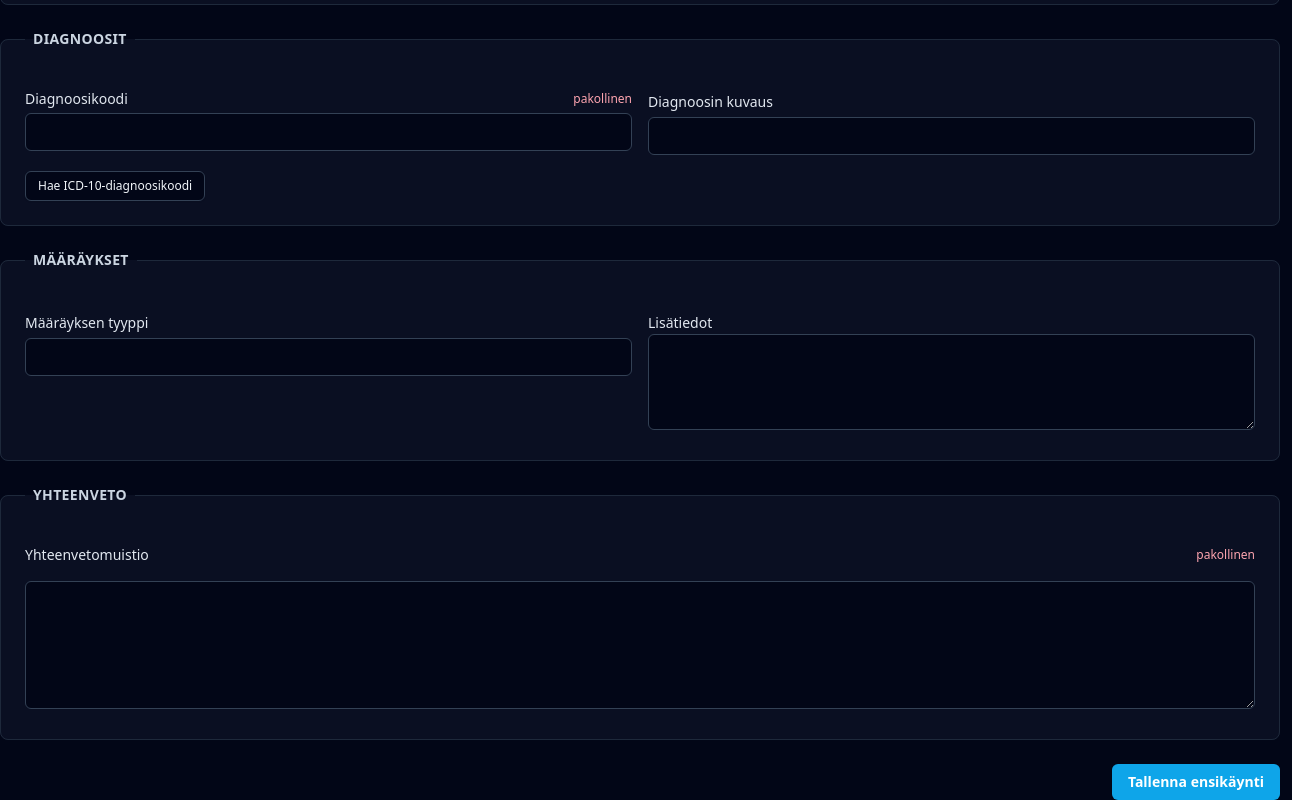
FirstVisitPage › estää tallennuksen kun pakolliset kentät puuttuvat
(page scrolled)
What coordinates should you click on to do the following:
click the button "Tallenna ensikäynti"
I would click on:
 (1196, 782)
Its box is [1112,764,1280,799].
(page scrolled)
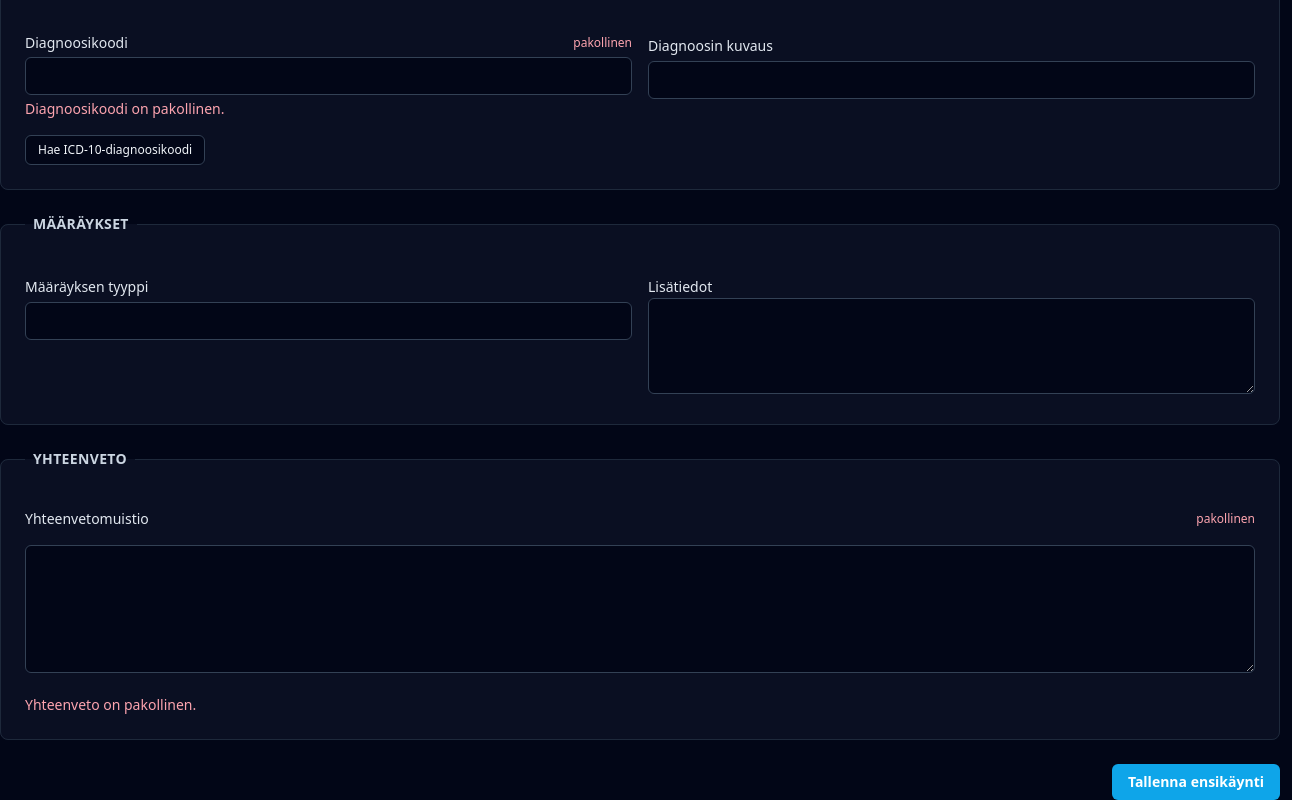
Expected: the text "Diagnoosikoodi on pakollinen." is shown, [25,99,224,118]
Expected: the text "Yhteenveto on pakollinen." is shown, [25,695,196,714]
